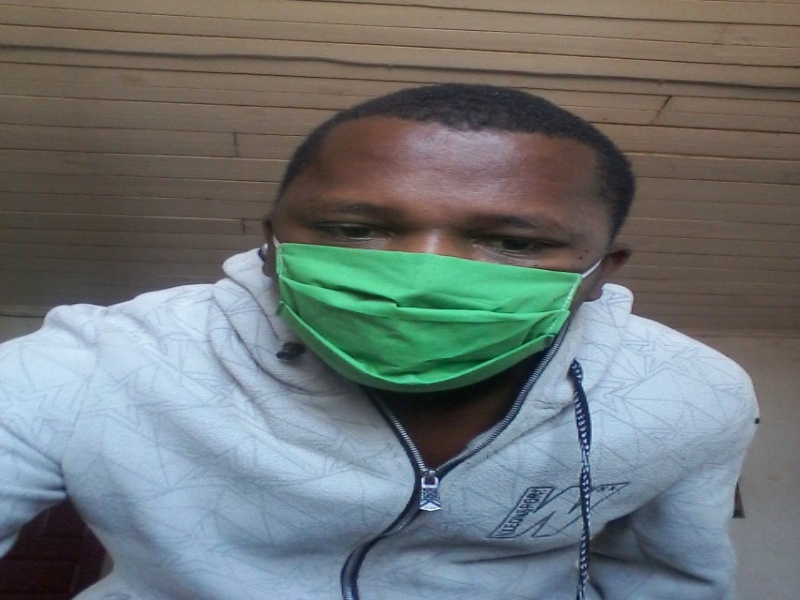ManaoArotava: (256, 75, 634, 421)
